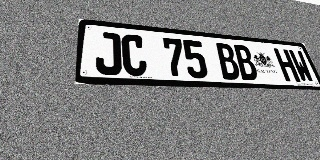5: (182, 40, 209, 79)
7: (161, 38, 188, 78)
B: (214, 43, 242, 80), (232, 44, 260, 80)
C: (121, 34, 148, 76)
H: (273, 48, 301, 82)
J: (95, 31, 122, 75)
W: (288, 50, 315, 83)
